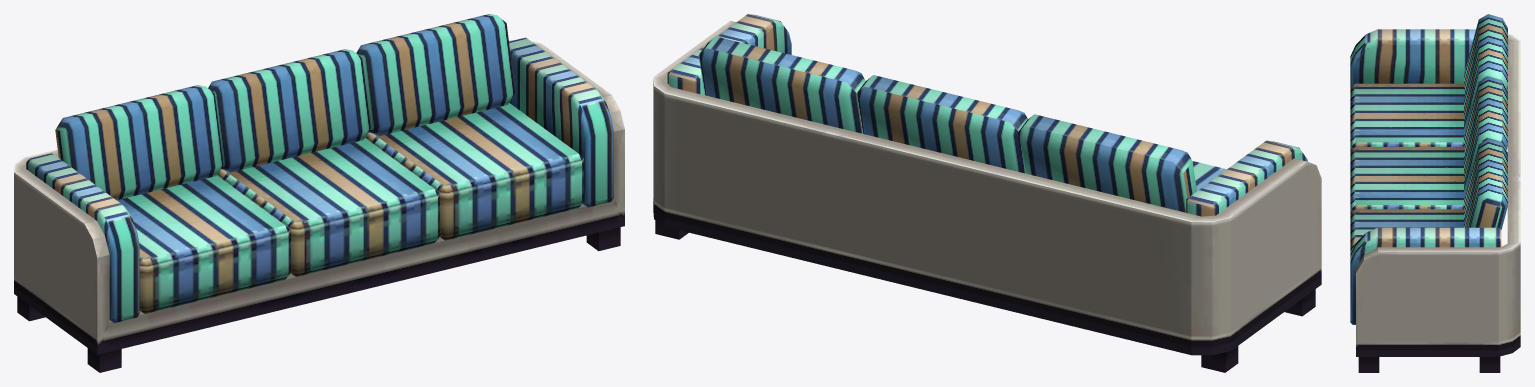
The model's file is furni_0200611_03.FBX.
3 views of the same model, side by side, from view 1: azimuth 30°, elevation 25°; view 2: azimuth 150°, elevation 25°; view 3: azimuth 270°, elevation 25° (orthographic). The views are drawn at different scales.
Parts seen in each view (by area): view 1: furni_0200611_03; view 2: furni_0200611_03; view 3: furni_0200611_03.
Part boxes in pixels (bbox=[...]): furni_0200611_03: bbox=[14, 14, 624, 372]; furni_0200611_03: bbox=[653, 14, 1321, 372]; furni_0200611_03: bbox=[1350, 14, 1520, 372].
Bounding box in the file's own units: 238 × 80.62 × 77.55.
Materials: 1 (1 with a texture image).
